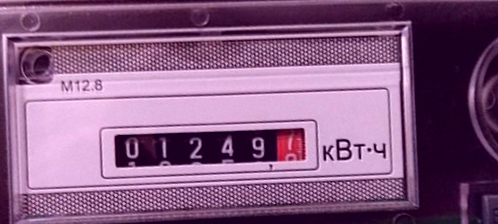0: (123, 133, 143, 161)
1: (155, 133, 172, 160)
2: (186, 135, 206, 163)
4: (219, 132, 238, 159)
7: (282, 125, 300, 153)
9: (248, 133, 268, 161)
screen: (95, 100, 326, 199)
